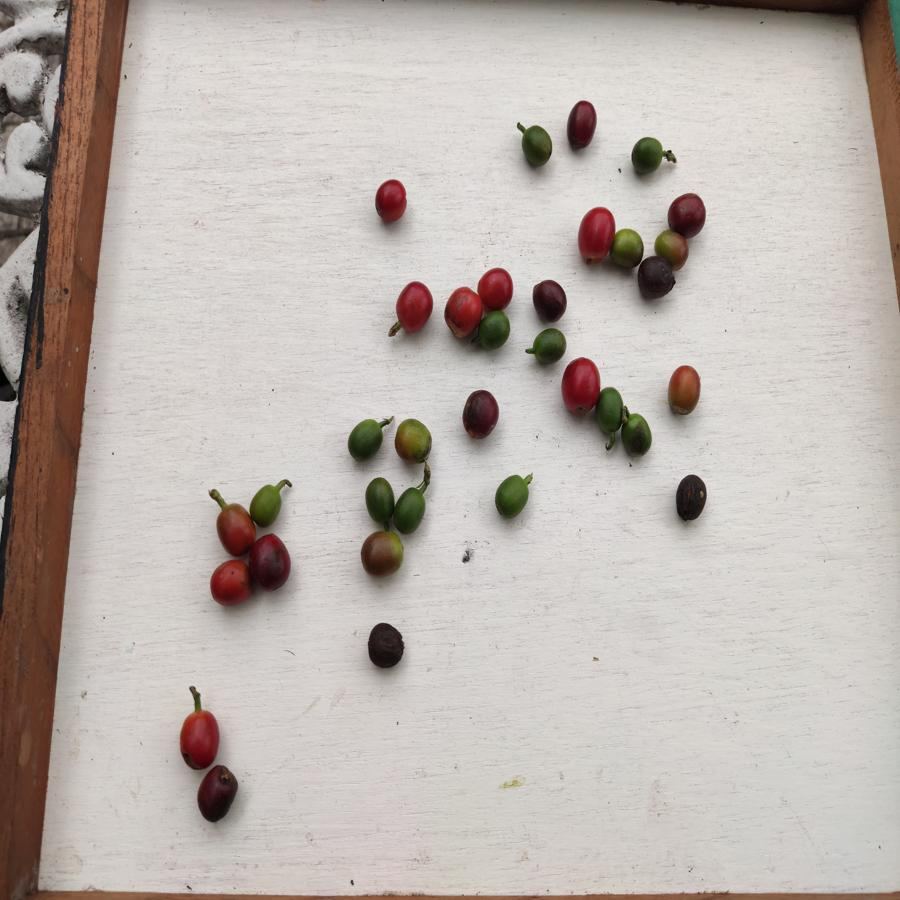Inmaduro: (620, 409, 656, 456), (249, 481, 285, 527), (392, 489, 428, 534), (363, 476, 395, 525), (494, 474, 530, 517), (348, 420, 385, 461), (518, 123, 552, 167), (611, 225, 645, 268), (629, 136, 663, 175), (479, 311, 512, 351), (531, 327, 565, 365), (597, 387, 624, 432)
Maduro: (178, 707, 221, 768), (561, 357, 601, 417), (577, 207, 615, 267), (209, 558, 253, 608), (443, 285, 481, 339), (215, 502, 253, 555), (396, 280, 433, 334), (479, 263, 514, 310), (373, 179, 408, 222)
Pinton: (393, 417, 435, 465), (665, 365, 703, 417), (362, 531, 405, 576), (655, 231, 690, 270)
Sobremaduro: (196, 764, 240, 826), (252, 532, 295, 590), (460, 389, 500, 439), (366, 620, 405, 669), (637, 255, 677, 302), (531, 279, 571, 325), (668, 191, 706, 235), (567, 97, 599, 149), (676, 475, 707, 521)
